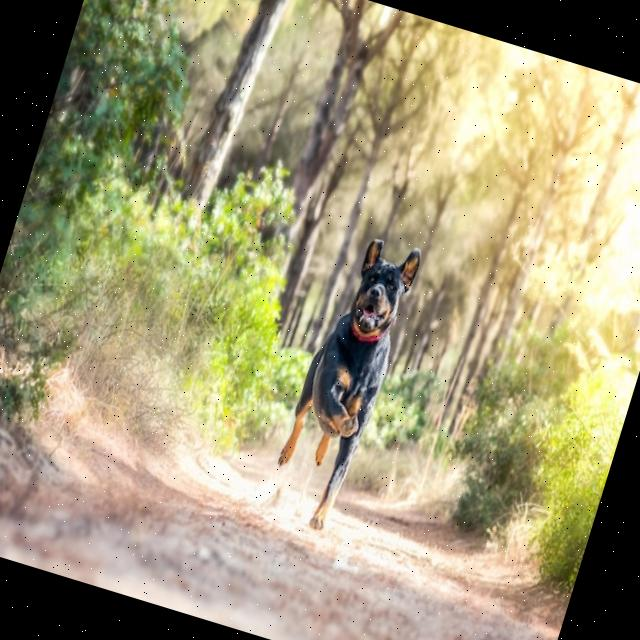Dog: (260, 226, 424, 540)
